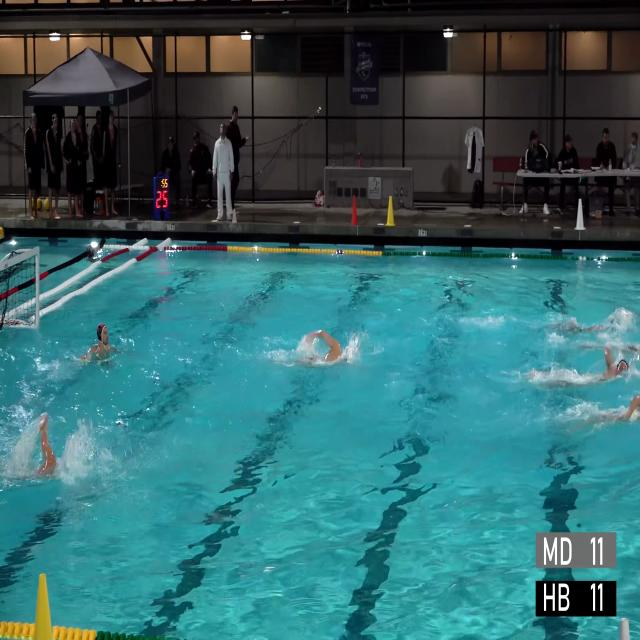ball: (44, 198, 50, 211), (28, 199, 34, 210), (37, 198, 42, 211), (0, 226, 4, 238)
